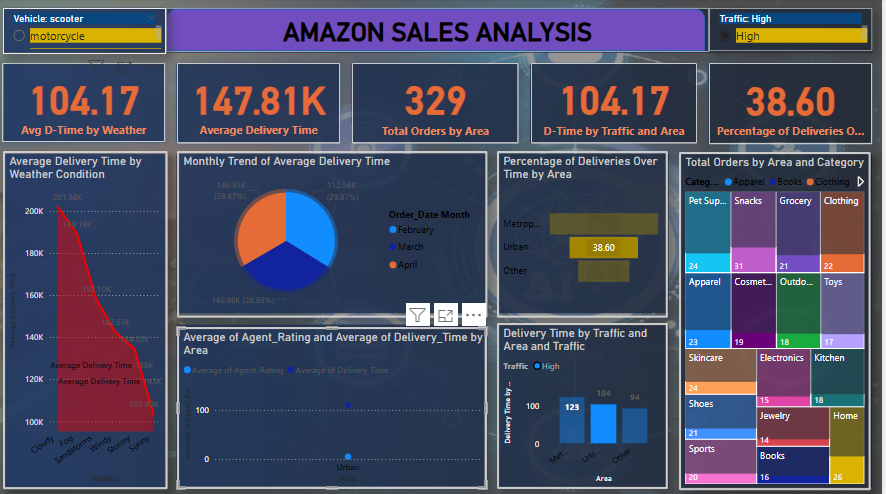

This screenshot's page, from the dashboard's own definition file:
{"tool":"powerbi","page":{"name":"Page 1","canvas":[1280,720],"ordinal":0},"visuals":[{"type":"card","fields":{"Values":["amazon_delivery.Delivery Time by Traffic and Area"]},"box":[772.9,94.3,238.6,115.7],"z":0},{"type":"card","fields":{"Values":["amazon_delivery.Average Delivery Time by Weather"]},"box":[12,94,235.2,114],"z":1000},{"type":"card","fields":{"Values":["amazon_delivery.Percentage of Deliveries Over Time"]},"box":[1029.6,93.6,234.7,116.6],"z":2000},{"type":"card","fields":{"Values":["amazon_delivery.Average Delivery Time"]},"box":[263.7,94.1,235.2,115.9],"z":3000},{"type":"card","fields":{"Values":["amazon_delivery.Total Orders by Area"]},"box":[515.7,94.3,240,115.7],"z":4000},{"type":"shape","box":[247.7,14.4,781.9,63.4],"z":5000},{"type":"slicer","fields":{"Values":["amazon_delivery.Traffic"]},"box":[1029.6,14.4,234.7,61.9],"z":6000},{"type":"slicer","fields":{"Values":["amazon_delivery.Vehicle"]},"box":[13,14.4,234.7,66.2],"z":7000},{"type":"pieChart","title":"Monthly Trend of Average Delivery Time","fields":{"Category":["amazon_delivery.Order_Date.Variation.Date Hierarchy.Month"],"Y":["amazon_delivery.Average Delivery Time"]},"box":[262.9,220,447.1,240],"z":8000},{"type":"funnel","fields":{"Category":["amazon_delivery.Area"],"Y":["amazon_delivery.Percentage of Deliveries Over Time"]},"box":[724.3,220,245.7,240],"z":9000},{"type":"stackedAreaChart","title":"Average Delivery Time by Weather Condition","fields":{"Category":["amazon_delivery.Weather"],"Y":["amazon_delivery.Average Delivery Time"]},"box":[12.9,220,237.1,487.1],"z":10000},{"type":"columnChart","title":"Delivery Time by Traffic and Area and Traffic","fields":{"Y":["amazon_delivery.Delivery Time by Traffic and Area"],"Category":["amazon_delivery.Area"],"Series":["amazon_delivery.Traffic"]},"box":[724.3,468,246.2,239],"z":12000},{"type":"treemap","title":"Total Orders by Area and Category","fields":{"Details":["amazon_delivery.Category"],"Values":["amazon_delivery.Total Orders by Area"]},"box":[986,222,275.7,487.1],"z":13000},{"type":"stackedAreaChart","fields":{"Category":["amazon_delivery.Area"],"Y":["Avg(amazon_delivery.Agent_Rating)","Avg(amazon_delivery.Delivery_Time)"]},"box":[263.5,473.8,446.4,233.3],"z":14000}]}

Visuals, with their boxes in screenshot pixels (x1, y1, x2, y2), scaled from the page's 1280x720 canvas onto the 886x494 screenshot:
card - amazon_delivery.Delivery Time by Traffic and Area: Rect(535, 65, 700, 144)
card - amazon_delivery.Average Delivery Time by Weather: Rect(8, 64, 171, 143)
card - amazon_delivery.Percentage of Deliveries Over Time: Rect(713, 64, 875, 144)
card - amazon_delivery.Average Delivery Time: Rect(183, 65, 345, 144)
card - amazon_delivery.Total Orders by Area: Rect(357, 65, 523, 144)
shape: Rect(171, 10, 713, 53)
slicer - amazon_delivery.Traffic: Rect(713, 10, 875, 52)
slicer - amazon_delivery.Vehicle: Rect(9, 10, 171, 55)
"Monthly Trend of Average Delivery Time" pieChart: Rect(182, 151, 491, 316)
funnel - amazon_delivery.Area x amazon_delivery.Percentage of Deliveries Over Time: Rect(501, 151, 671, 316)
"Average Delivery Time by Weather Condition" stackedAreaChart: Rect(9, 151, 173, 485)
"Delivery Time by Traffic and Area and Traffic" columnChart: Rect(501, 321, 672, 485)
"Total Orders by Area and Category" treemap: Rect(682, 152, 873, 487)
stackedAreaChart - amazon_delivery.Area x Avg(amazon_delivery.Agent_Rating): Rect(182, 325, 491, 485)
